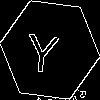Y: (25, 25, 61, 74)
